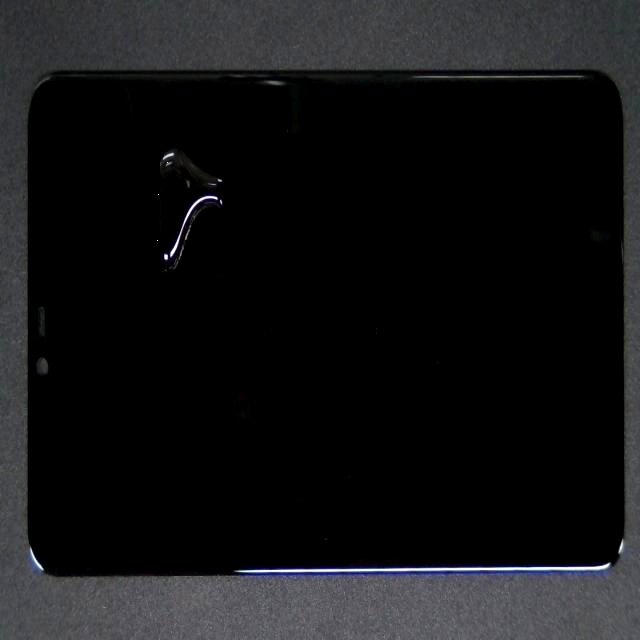oil: (126, 91, 312, 241)
